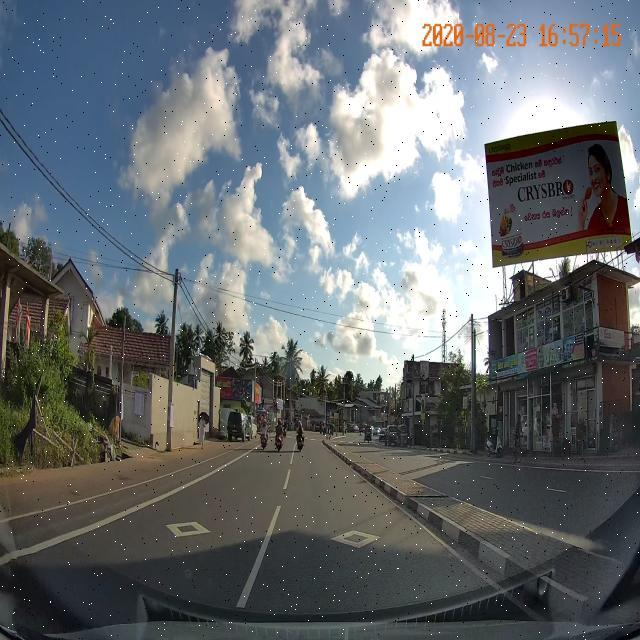diamond: (255, 508, 474, 558)
